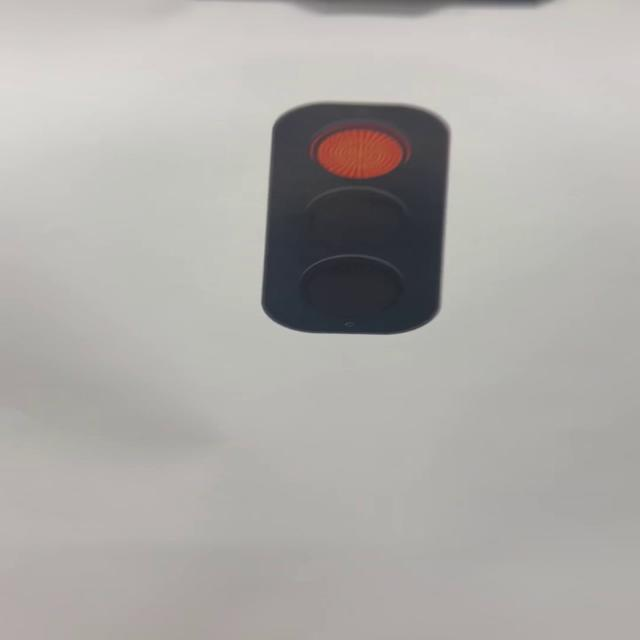red: (260, 99, 445, 335)
